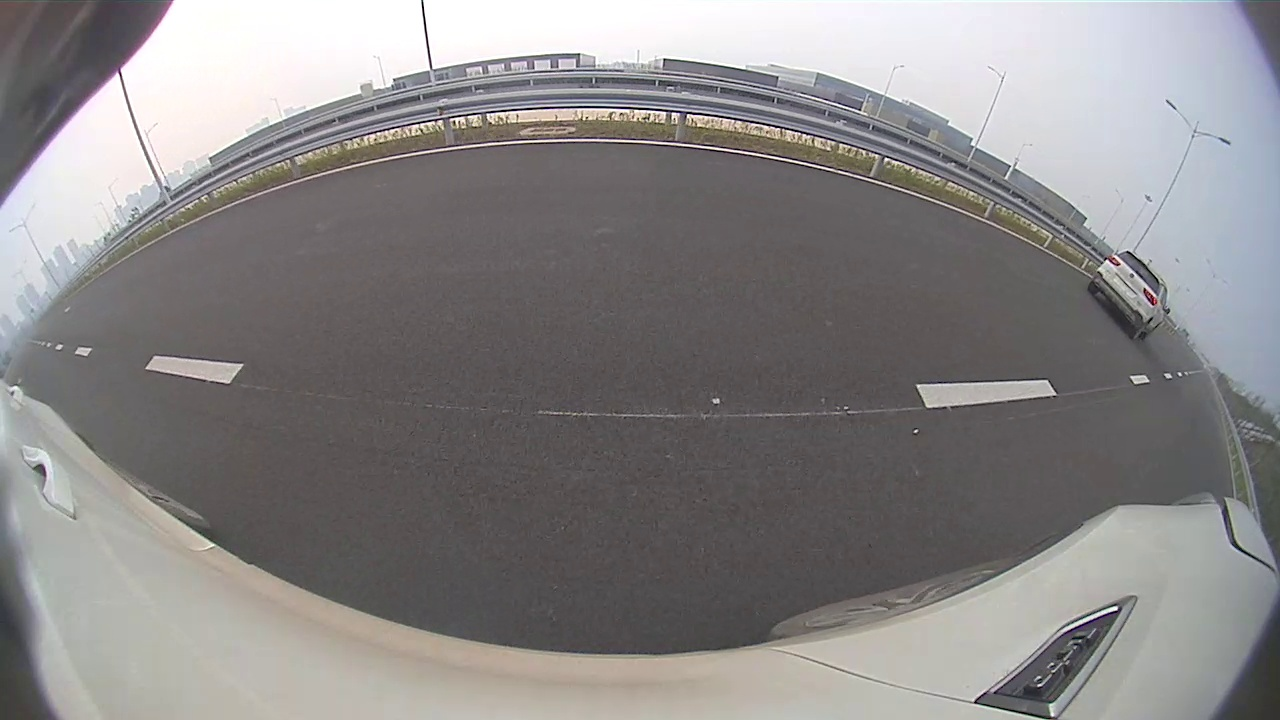car: (752, 141, 883, 222)
front: (754, 175, 770, 203)
rear: (791, 181, 813, 214)
